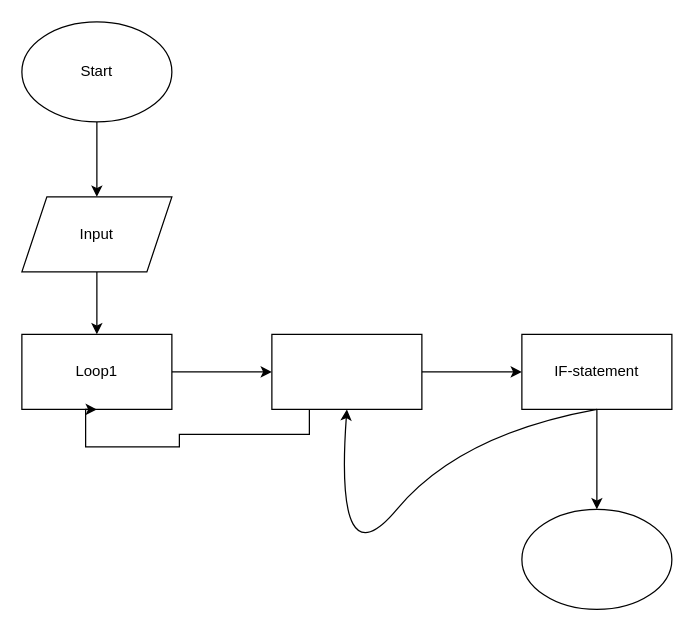
Some shapes in this 694 by 631 pixel diagram are drawn without their labels. Each missing label, with the centre of its shape:
End: (596,558)
Loop2: (346,371)
